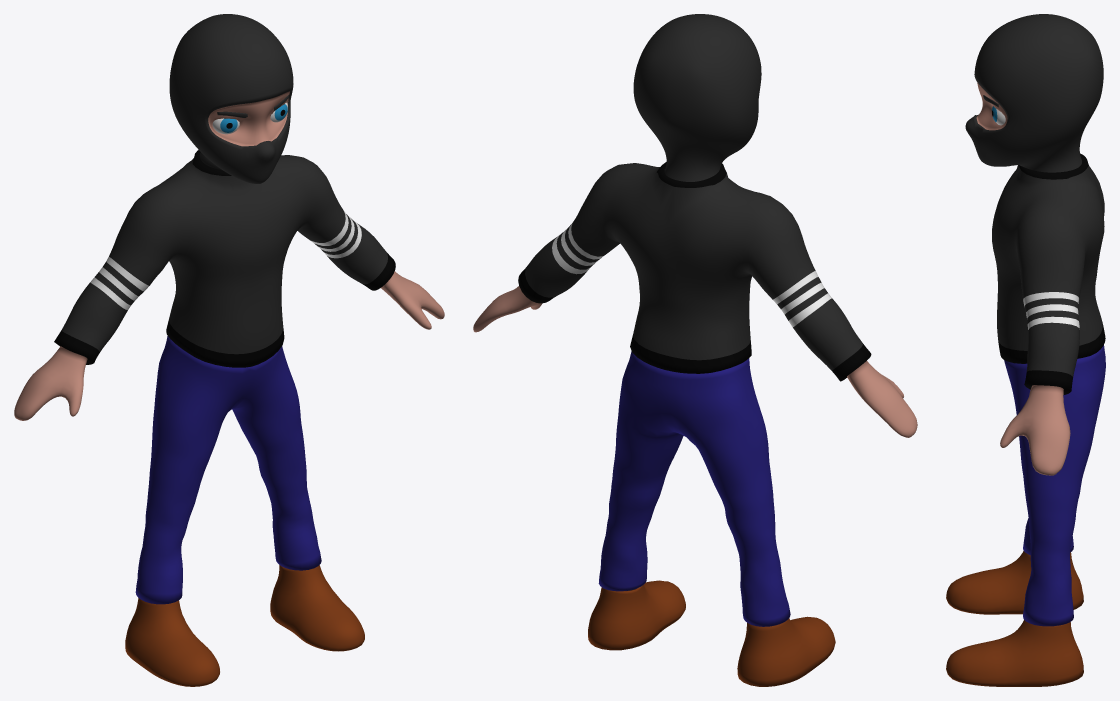
File: Thief.fbx
3 renders of one model, left to right at view 1: azimuth 30°, elevation 25°; view 2: azimuth 150°, elevation 25°; view 3: azimuth 270°, elevation 25°, orthographic. The views are drawn at different scales.
Parts seen in each view (by area): view 1: body, head, body.001; view 2: body, head, body.001; view 3: body, head, body.001.
Part boxes in pixels (x1,y1,x2,y2): body: [14, 150, 444, 604]; head: [169, 14, 293, 183]; body.001: [125, 565, 364, 686]; body: [473, 162, 917, 626]; head: [633, 14, 761, 181]; body.001: [588, 580, 835, 686]; body: [992, 153, 1105, 626]; head: [965, 14, 1103, 172]; body.001: [946, 551, 1083, 686].
Bounding box in the file's own units: 165 × 227 × 53.12.
